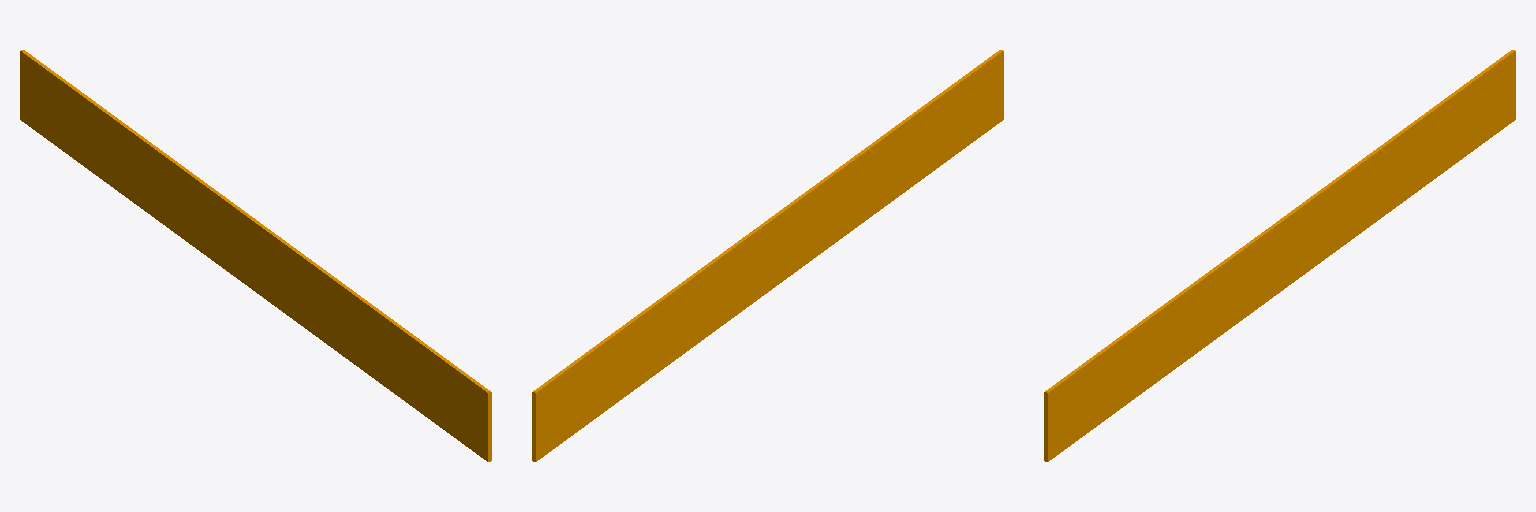
robot.urdf — line_boundary:
<?xml version="0.0" ?>
<robot name="line_boundary">
    <material name="yellow">
        <color rgba="0.95 0.63 0 0.5"/>
    </material>
  <link name="base_link">
    <inertial>
      <mass value="1"/>
      <inertia ixx="1" ixy="0" ixz="0" iyy="1" iyz="0" izz="1"/>
    </inertial>
    <visual>
      <geometry>
        <box size="0.1 22 1.8"/>
      </geometry>
      <material name="yellow"/>
      <origin xyz="0 0 0.9"/>
    </visual>
  </link>
</robot>

--- Render facts (derived) ---
Views: 3 orthographic renders of the robot side by side, from view 1: azimuth 30°, elevation 25°; view 2: azimuth 150°, elevation 25°; view 3: azimuth 330°, elevation 25°.
Model line_boundary with 1 links and 0 joints (none), rooted at base_link, posed every joint at zero.
Links seen in each view (by area): view 1: base_link; view 2: base_link; view 3: base_link.
Link boxes in pixels (x1,y1,x2,y2): base_link: [20, 50, 491, 461]; base_link: [532, 50, 1003, 461]; base_link: [1044, 50, 1515, 461].
Bounding box of the posed robot: 0.1 × 22 × 1.8 m (x, y, z).
Geometry: primitives only (box / cylinder / sphere), no mesh files.